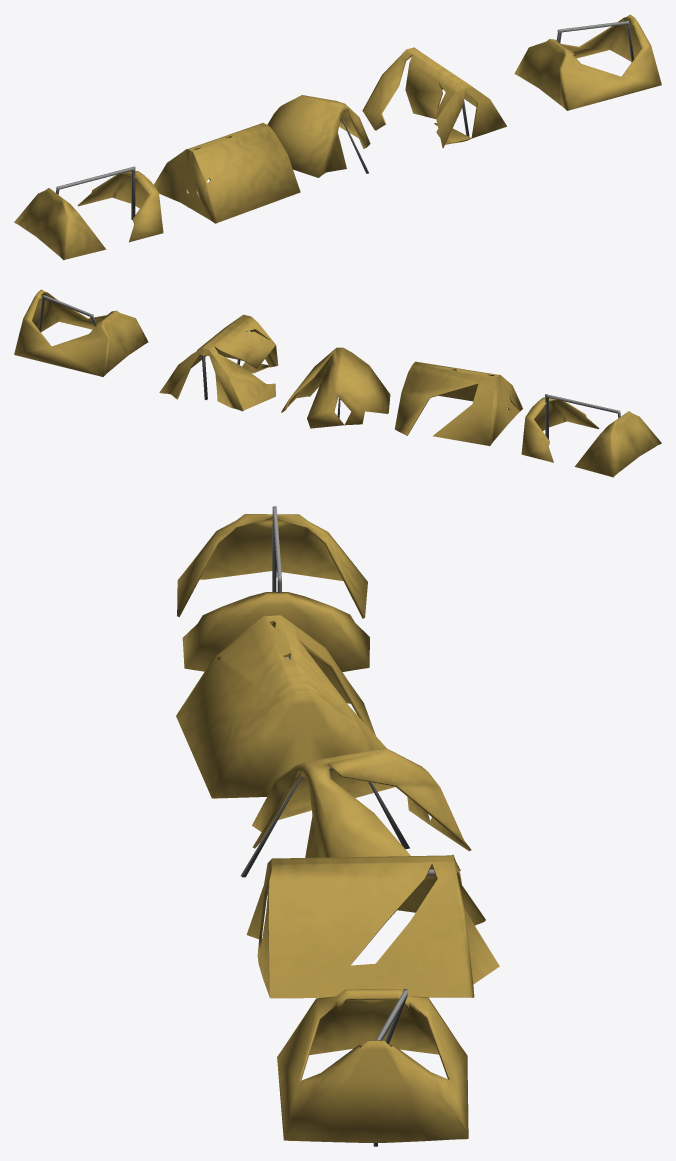
Rendered from DamagedTents_Yellow.obj.
3 views of the same model, one above another, from view 1: azimuth 30°, elevation 25°; view 2: azimuth 150°, elevation 25°; view 3: azimuth 270°, elevation 25° (orthographic). The views are drawn at different scales.
Parts seen in each view (by area): view 1: DamagedTent_Base.003_Material, DamagedTent_Base_Material, DamagedTent_Base.001_Material, DamagedTent_Base.004_Material, DamagedTent_Base.002_Material, Tent_SupportBar.009_Material.159, Tent_SupportBar.005_Material.159; view 2: DamagedTent_Base.003_Material, DamagedTent_Base_Material, DamagedTent_Base.001_Material, DamagedTent_Base.004_Material, DamagedTent_Base.002_Material, Tent_SupportBar.009_Material.159, Tent_SupportBar.005_Material.159; view 3: DamagedTent_Base.001_Material, DamagedTent_Base_Material, DamagedTent_Base.003_Material, DamagedTent_Base.004_Material, DamagedTent_Base.002_Material, Tent_SupportBar.007_Material.159.
Boxes of the visible parts, <box> form: DamagedTent_Base.003_Material: <box>154,123,300,223</box>; DamagedTent_Base_Material: <box>514,14,661,110</box>; DamagedTent_Base.001_Material: <box>362,47,506,148</box>; DamagedTent_Base.004_Material: <box>14,171,163,260</box>; DamagedTent_Base.002_Material: <box>267,95,370,177</box>; Tent_SupportBar.009_Material.159: <box>56,166,135,219</box>; Tent_SupportBar.005_Material.159: <box>556,20,633,62</box>; DamagedTent_Base.003_Material: <box>394,361,522,446</box>; DamagedTent_Base_Material: <box>14,289,148,376</box>; DamagedTent_Base.001_Material: <box>159,314,278,411</box>; DamagedTent_Base.004_Material: <box>521,397,661,477</box>; DamagedTent_Base.002_Material: <box>281,347,390,428</box>; Tent_SupportBar.009_Material.159: <box>545,394,620,439</box>; Tent_SupportBar.005_Material.159: <box>38,295,96,331</box>; DamagedTent_Base.001_Material: <box>246,854,499,998</box>; DamagedTent_Base_Material: <box>277,989,468,1142</box>; DamagedTent_Base.003_Material: <box>176,615,385,798</box>; DamagedTent_Base.004_Material: <box>177,514,369,671</box>; DamagedTent_Base.002_Material: <box>252,747,471,857</box>; Tent_SupportBar.007_Material.159: <box>240,766,409,877</box>.
Size of the model in its own units: 14.53 by 1.29 by 3.5.
